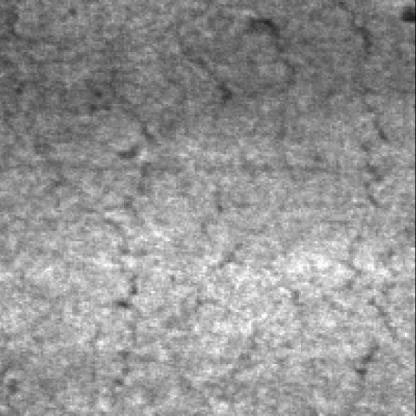crazing: (187, 10, 306, 258), (97, 33, 168, 404), (339, 0, 400, 374)
